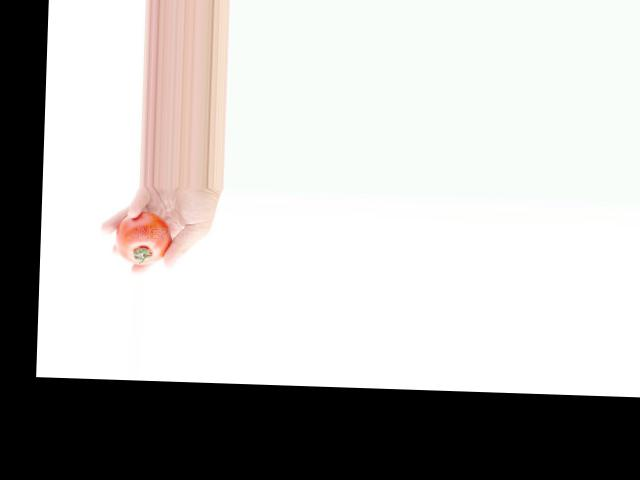tomato: (114, 210, 171, 265)
